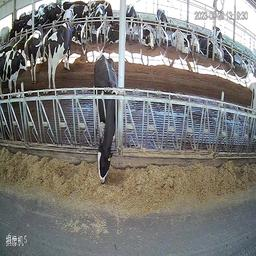cow: (92, 52, 117, 185), (47, 21, 73, 93), (0, 48, 27, 91), (27, 21, 44, 86), (170, 26, 197, 54), (154, 7, 169, 48), (197, 34, 215, 61), (95, 3, 105, 47), (140, 21, 155, 50), (126, 4, 137, 41), (107, 19, 120, 49), (211, 22, 225, 48), (72, 5, 89, 26), (73, 26, 89, 47), (62, 5, 74, 31), (46, 5, 63, 23)
